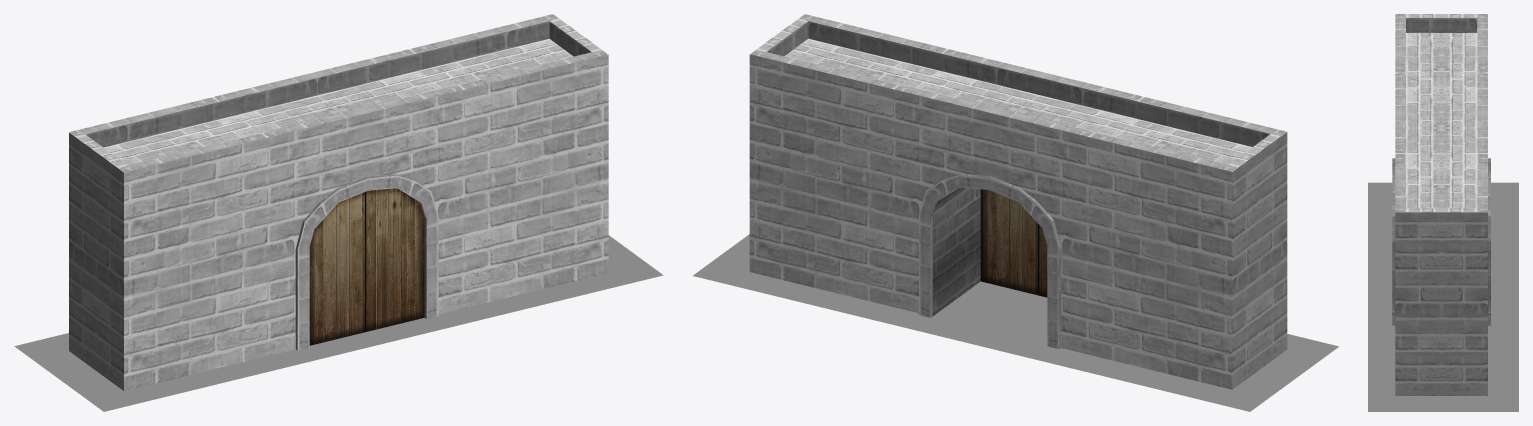
File: Castle-gate.FBX
3 views of the same model, side by side, from view 1: azimuth 30°, elevation 25°; view 2: azimuth 150°, elevation 25°; view 3: azimuth 270°, elevation 25° (orthographic). The views are drawn at different scales.
Visible parts, largest first — view 1: Box001, オブジェクト001, Plane001; view 2: Box001, Plane001, オブジェクト001; view 3: Box001, Plane001.
Boxes of the visible parts, bbox=[...] form: Box001: bbox=[69, 14, 608, 390]; オブジェクト001: bbox=[309, 188, 424, 345]; Plane001: bbox=[14, 235, 663, 411]; Box001: bbox=[749, 14, 1287, 389]; Plane001: bbox=[693, 234, 1338, 411]; オブジェクト001: bbox=[980, 189, 1047, 297]; Box001: bbox=[1392, 14, 1490, 395]; Plane001: bbox=[1368, 182, 1518, 411].
Bounding box in the file's own units: 220 × 82.01 × 61.04.
